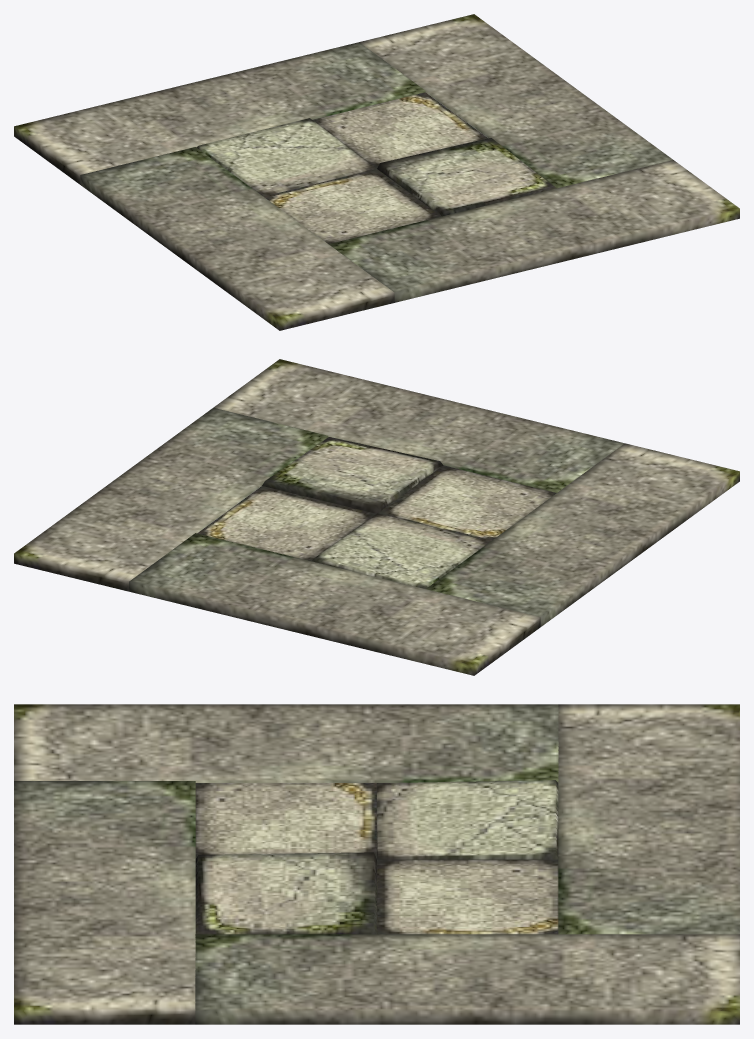
Rendered from floor.fbx.
3 renders of one model, top to bottom at view 1: azimuth 30°, elevation 25°; view 2: azimuth 150°, elevation 25°; view 3: azimuth 270°, elevation 25°, orthographic. The views are drawn at different scales.
Parts seen in each view (by area): view 1: Floor_000; view 2: Floor_000; view 3: Floor_000.
Boxes of the visible parts, <box> form: Floor_000: <box>14,14,739,330</box>; Floor_000: <box>14,359,739,675</box>; Floor_000: <box>14,704,739,1024</box>.
Size of the model in its own units: 1 by 0.0308 by 1.
